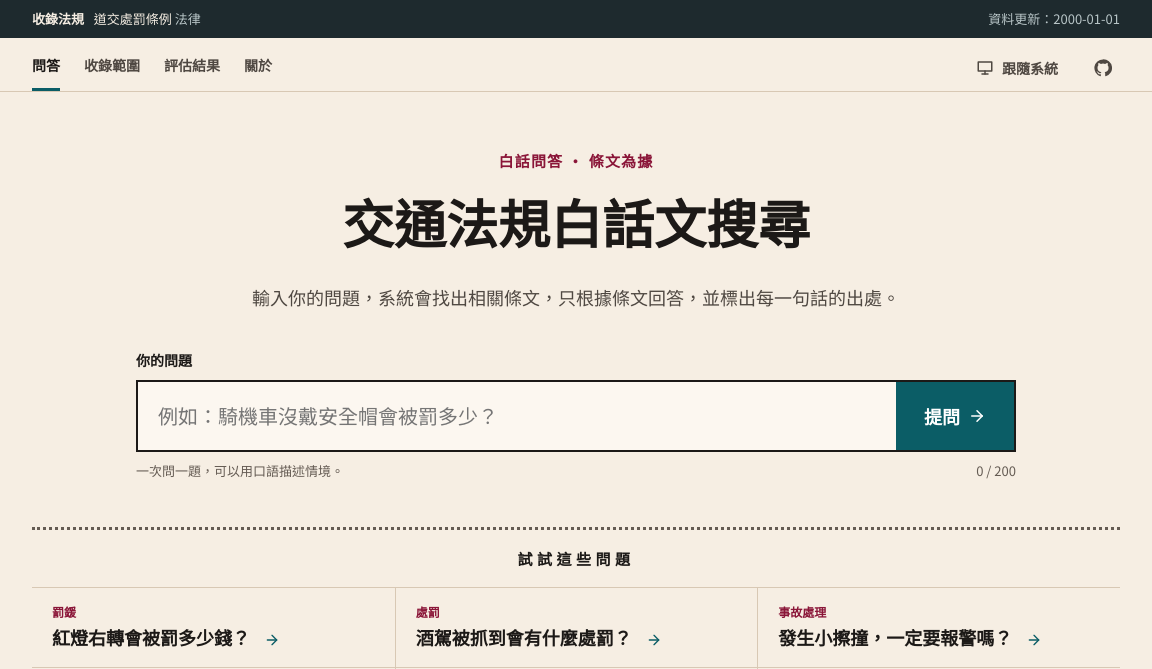
Test: asking › shows an interruption error when the stream ends without completing
In the text box labelled "你的問題": (517, 416) [138,382,896,450], type "紅燈右轉會被罰多少錢？"
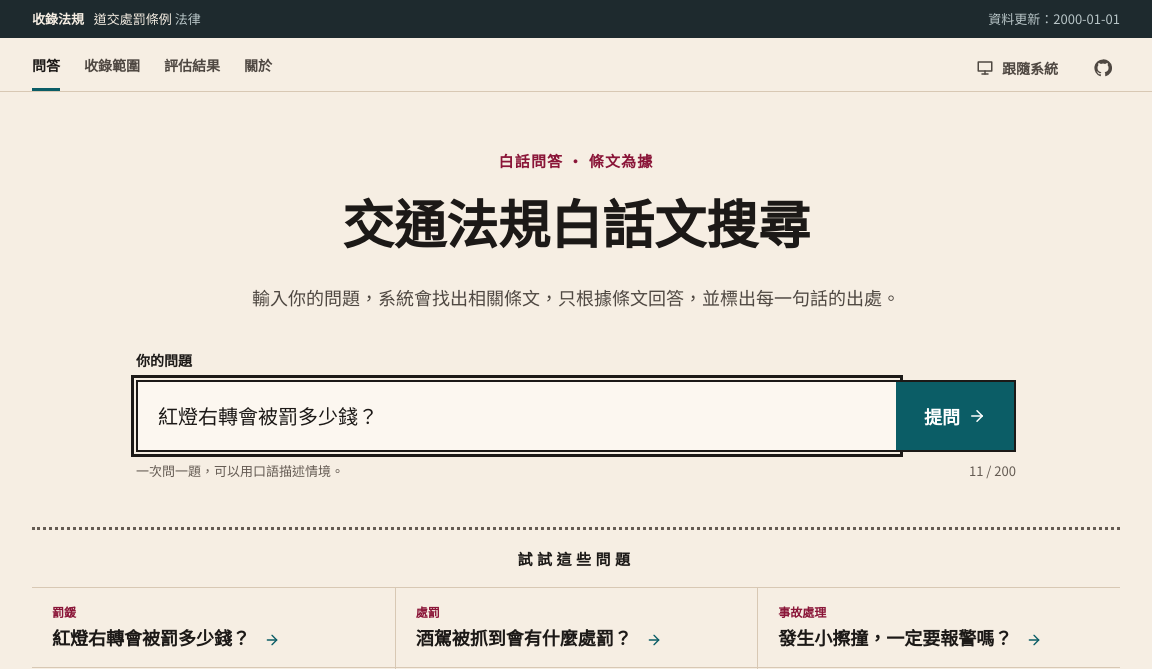
Click the button "提問": (955, 416) [896,382,1014,450]
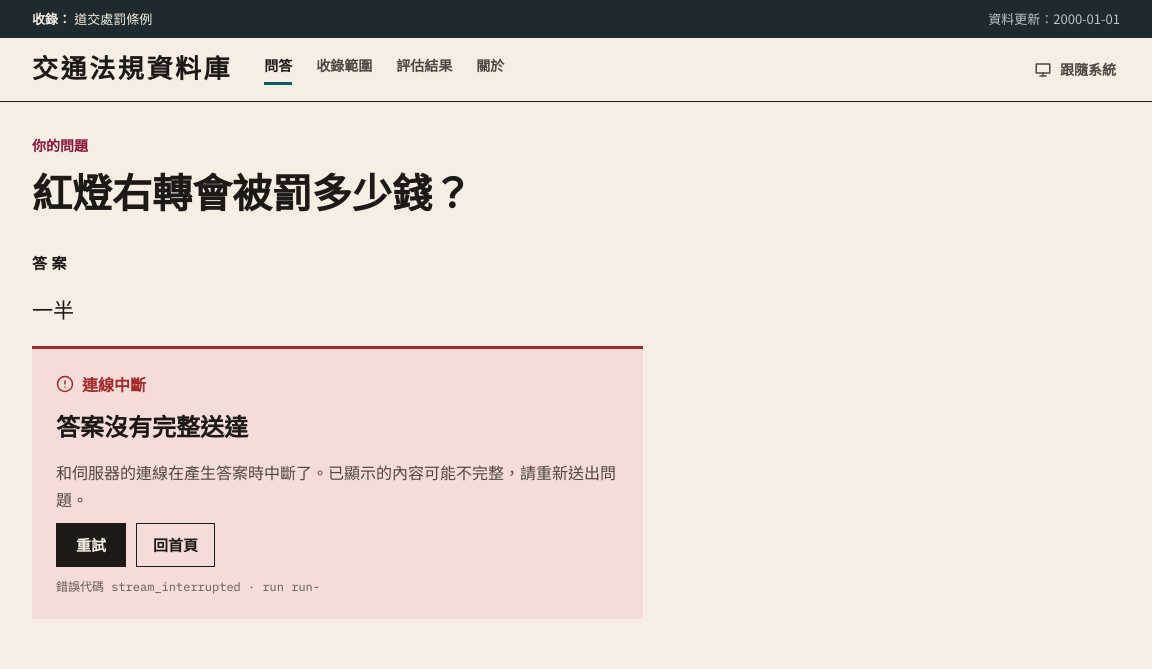
Result: the heading "答案沒有完整送達" is shown at [56,415,248,441]
Result: the message shows "stream_interrupted" at [111,579,241,594]
Result: the element "答案" shows "一半" at [32,299,74,323]
